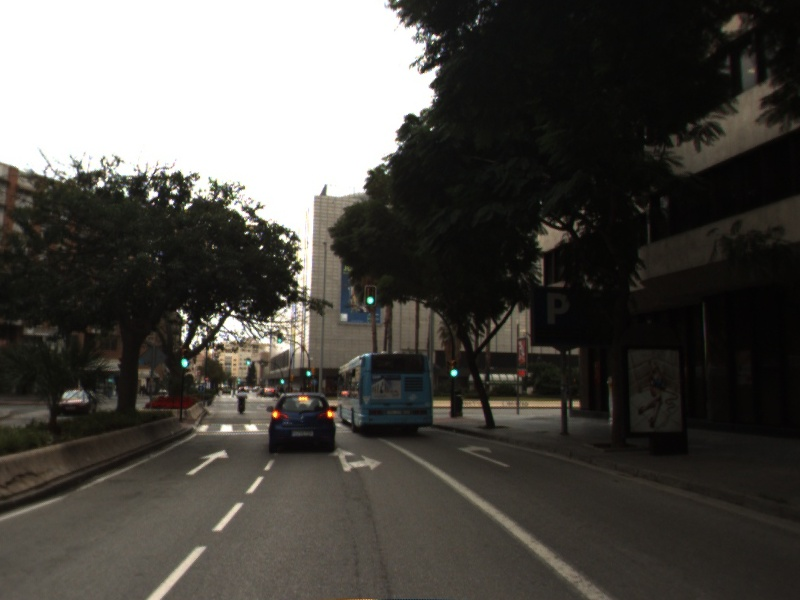RIGHT: (456, 441, 514, 470)
STRAIGHT: (184, 447, 231, 478)
STRAIGHT_RIGHT: (325, 446, 384, 474)
